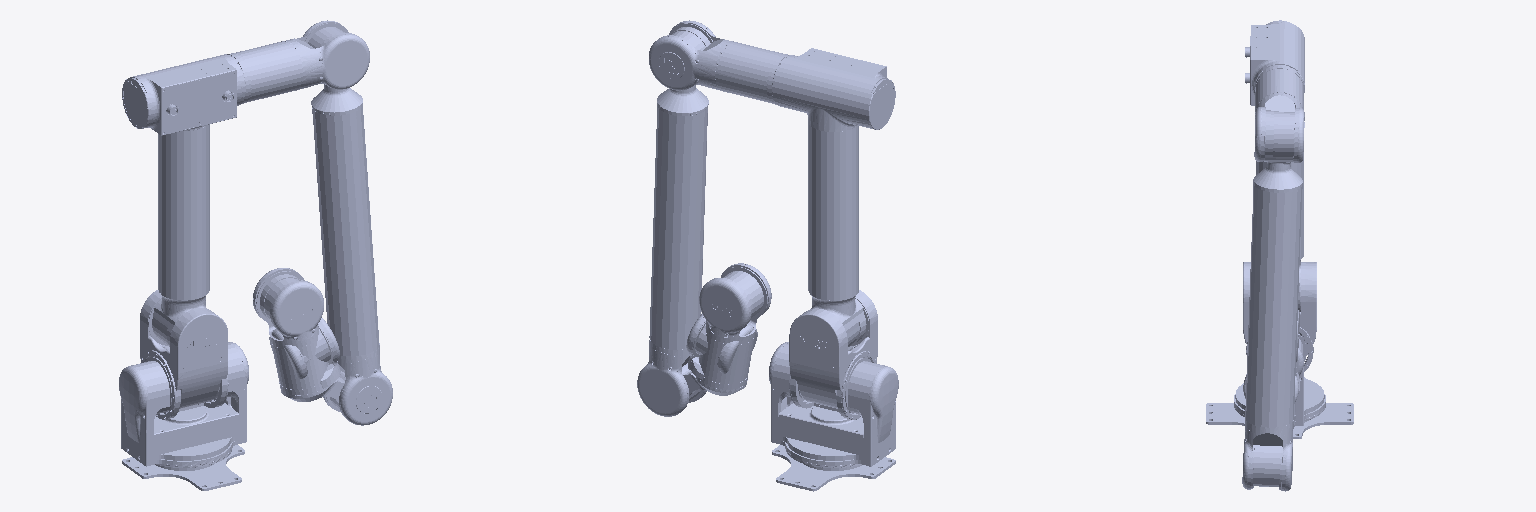
URDF robot description (gimbal_torso_with_arm_v2):
<robot
  name="gimbal_torso_with_arm_v2">
  <link
    name="gimbal_base_link">
    <inertial>
      <origin
        xyz="-0.000134617115499375 8.84443727108885E-05 0.00824468702760838"
        rpy="0 0 0" />
      <mass
        value="0.220004714037555" />
      <inertia
        ixx="0.000329104039004711"
        ixy="1.0791927549981E-06"
        ixz="1.84945148884471E-07"
        iyy="0.000212205129514198"
        iyz="-1.21510237523159E-07"
        izz="0.000523626224123319" />
    </inertial>
    <visual>
      <origin
        xyz="0 0 0"
        rpy="0 0 0" />
      <geometry>
        <mesh
          filename="package://gimbal_torso_with_arm_v2/meshes/gimbal_base_link.STL" />
      </geometry>
      <material
        name="">
        <color
          rgba="0.792156862745098 0.819607843137255 0.933333333333333 1" />
      </material>
    </visual>
    <collision>
      <origin
        xyz="0 0 0"
        rpy="0 0 0" />
      <geometry>
        <mesh
          filename="package://gimbal_torso_with_arm_v2/meshes/gimbal_base_link.STL" />
      </geometry>
    </collision>
  </link>
  <link
    name="gimbal_yaw_link">
    <inertial>
      <origin
        xyz="3.63692121861908E-09 0.0360027997375203 7.53548127025051E-09"
        rpy="0 0 0" />
      <mass
        value="0.660465266051098" />
      <inertia
        ixx="0.00110828576180168"
        ixy="5.24163679538012E-10"
        ixz="1.72177646519637E-08"
        iyy="0.00195590479811729"
        iyz="6.59482665939489E-10"
        izz="0.00216288436799051" />
    </inertial>
    <visual>
      <origin
        xyz="0 0 0"
        rpy="0 0 0" />
      <geometry>
        <mesh
          filename="package://gimbal_torso_with_arm_v2/meshes/gimbal_yaw_link.STL" />
      </geometry>
      <material
        name="">
        <color
          rgba="0.792156862745098 0.819607843137255 0.933333333333333 1" />
      </material>
    </visual>
    <collision>
      <origin
        xyz="0 0 0"
        rpy="0 0 0" />
      <geometry>
        <mesh
          filename="package://gimbal_torso_with_arm_v2/meshes/gimbal_yaw_link.STL" />
      </geometry>
    </collision>
  </link>
  <joint
    name="gimbal_yaw_joint"
    type="continuous">
    <origin
      xyz="0 0 0.016699"
      rpy="1.5708 -1.7477E-19 -0.0028543" />
    <parent
      link="gimbal_base_link" />
    <child
      link="gimbal_yaw_link" />
    <axis
      xyz="0 -1 0" />
  </joint>
  <link
    name="gimbal_pitch_link">
    <inertial>
      <origin
        xyz="-0.00188080077860001 -0.0394868539536669 2.30810626999092E-08"
        rpy="0 0 0" />
      <mass
        value="0.222734001689271" />
      <inertia
        ixx="0.000530048376111897"
        ixy="-1.87929491980254E-05"
        ixz="-1.02534625143116E-08"
        iyy="0.000487154238459728"
        iyz="-2.55469568334203E-09"
        izz="0.000673048826361283" />
    </inertial>
    <visual>
      <origin
        xyz="0 0 0"
        rpy="0 0 0" />
      <geometry>
        <mesh
          filename="package://gimbal_torso_with_arm_v2/meshes/gimbal_pitch_link.STL" />
      </geometry>
      <material
        name="">
        <color
          rgba="0.792156862745098 0.819607843137255 0.933333333333333 1" />
      </material>
    </visual>
    <collision>
      <origin
        xyz="0 0 0"
        rpy="0 0 0" />
      <geometry>
        <mesh
          filename="package://gimbal_torso_with_arm_v2/meshes/gimbal_pitch_link.STL" />
      </geometry>
    </collision>
  </link>
  <joint
    name="gimbal_pitch_joint"
    type="continuous">
    <origin
      xyz="0 0.1865 0"
      rpy="3.1416 1.5708 3.1416" />
    <parent
      link="gimbal_yaw_link" />
    <child
      link="gimbal_pitch_link" />
    <axis
      xyz="0 0 -1" />
  </joint>
  <link
    name="gimbal_roll_link">
    <inertial>
      <origin
        xyz="0.00106838223576286 0.258590113480123 -0.00794416862383205"
        rpy="0 0 0" />
      <mass
        value="1.13132140282419" />
      <inertia
        ixx="0.0302486709111049"
        ixy="0.000102874535803137"
        ixz="8.28461579030784E-06"
        iyy="0.00333181798814467"
        iyz="-0.000943641323880079"
        izz="0.0278575052741454" />
    </inertial>
    <visual>
      <origin
        xyz="0 0 0"
        rpy="0 0 0" />
      <geometry>
        <mesh
          filename="package://gimbal_torso_with_arm_v2/meshes/gimbal_roll_link.STL" />
      </geometry>
      <material
        name="">
        <color
          rgba="0.792156862745098 0.819607843137255 0.933333333333333 1" />
      </material>
    </visual>
    <collision>
      <origin
        xyz="0 0 0"
        rpy="0 0 0" />
      <geometry>
        <mesh
          filename="package://gimbal_torso_with_arm_v2/meshes/gimbal_roll_link.STL" />
      </geometry>
    </collision>
  </link>
  <joint
    name="gimbal_roll_joint"
    type="continuous">
    <origin
      xyz="0 0 0"
      rpy="-3.1413 7.7717E-14 -3.1416" />
    <parent
      link="gimbal_pitch_link" />
    <child
      link="gimbal_roll_link" />
    <axis
      xyz="-1 0 0" />
  </joint>
  <link
    name="right_shoulder_pitch_link">
    <inertial>
      <origin
        xyz="6.25478924209943E-09 -0.0318796832406486 0.00238461223068817"
        rpy="0 0 0" />
      <mass
        value="0.125376974978242" />
      <inertia
        ixx="0.000185882524560888"
        ixy="1.09036579863303E-11"
        ixz="-4.53795762592269E-10"
        iyy="0.000113208808305413"
        iyz="-1.08649943703842E-05"
        izz="0.000168032789336645" />
    </inertial>
    <visual>
      <origin
        xyz="0 0 0"
        rpy="0 0 0" />
      <geometry>
        <mesh
          filename="package://gimbal_torso_with_arm_v2/meshes/right_shoulder_pitch_link.STL" />
      </geometry>
      <material
        name="">
        <color
          rgba="0.792156862745098 0.819607843137255 0.933333333333333 1" />
      </material>
    </visual>
    <collision>
      <origin
        xyz="0 0 0"
        rpy="0 0 0" />
      <geometry>
        <mesh
          filename="package://gimbal_torso_with_arm_v2/meshes/right_shoulder_pitch_link.STL" />
      </geometry>
    </collision>
  </link>
  <joint
    name="right_shoulder_pitch_joint"
    type="continuous">
    <origin
      xyz="0 0.36378 -0.17192"
      rpy="1.5708 -5.5949E-15 -1.5375" />
    <parent
      link="gimbal_roll_link" />
    <child
      link="right_shoulder_pitch_link" />
    <axis
      xyz="0 1 0" />
  </joint>
  <link
    name="right_shoulder_roll_link">
    <inertial>
      <origin
        xyz="-9.94218518396428E-06 -0.230368486049706 -2.0744389619038E-05"
        rpy="0 0 0" />
      <mass
        value="1.73190304018425" />
      <inertia
        ixx="0.0303249895740869"
        ixy="-2.67921926701428E-06"
        ixz="-3.90904281925668E-10"
        iyy="0.00108480293835837"
        iyz="-8.33739702745909E-06"
        izz="0.0303485929216463" />
    </inertial>
    <visual>
      <origin
        xyz="0 0 0"
        rpy="0 0 0" />
      <geometry>
        <mesh
          filename="package://gimbal_torso_with_arm_v2/meshes/right_shoulder_roll_link.STL" />
      </geometry>
      <material
        name="">
        <color
          rgba="0.792156862745098 0.819607843137255 0.933333333333333 1" />
      </material>
    </visual>
    <collision>
      <origin
        xyz="0 0 0"
        rpy="0 0 0" />
      <geometry>
        <mesh
          filename="package://gimbal_torso_with_arm_v2/meshes/right_shoulder_roll_link.STL" />
      </geometry>
    </collision>
  </link>
  <joint
    name="right_shoulder_roll_joint"
    type="continuous">
    <origin
      xyz="0 -0.070228 0.00035"
      rpy="3.1919E-16 1.5027E-16 1.5174" />
    <parent
      link="right_shoulder_pitch_link" />
    <child
      link="right_shoulder_roll_link" />
    <axis
      xyz="0 0 0" />
  </joint>
  <link
    name="right_elbow_yaw_link">
    <inertial>
      <origin
        xyz="3.04560456299008E-08 0.0383487289241179 0.0026048194183257"
        rpy="0 0 0" />
      <mass
        value="0.125376473535097" />
      <inertia
        ixx="0.000185881976997219"
        ixy="1.48633051667768E-11"
        ixz="-5.86454335043705E-10"
        iyy="0.000113208103578472"
        iyz="-1.08648856516092E-05"
        izz="0.000168032795897041" />
    </inertial>
    <visual>
      <origin
        xyz="0 0 0"
        rpy="0 0 0" />
      <geometry>
        <mesh
          filename="package://gimbal_torso_with_arm_v2/meshes/right_elbow_yaw_link.STL" />
      </geometry>
      <material
        name="">
        <color
          rgba="0.792156862745098 0.819607843137255 0.933333333333333 1" />
      </material>
    </visual>
    <collision>
      <origin
        xyz="0 0 0"
        rpy="0 0 0" />
      <geometry>
        <mesh
          filename="package://gimbal_torso_with_arm_v2/meshes/right_elbow_yaw_link.STL" />
      </geometry>
    </collision>
  </link>
  <joint
    name="right_elbow_yaw_joint"
    type="continuous">
    <origin
      xyz="0 -0.51925 0.00021981"
      rpy="-3.1416 0.041777 3.1416" />
    <parent
      link="right_shoulder_roll_link" />
    <child
      link="right_elbow_yaw_link" />
    <axis
      xyz="0 0 0" />
  </joint>
  <link
    name="right_elbow_roll_link">
    <inertial>
      <origin
        xyz="0.00901649665112278 -0.035256471374657 -0.00063307567322062"
        rpy="0 0 0" />
      <mass
        value="0.296960652400396" />
      <inertia
        ixx="0.000843771360214524"
        ixy="-0.000201223900946504"
        ixz="-2.52668106930358E-07"
        iyy="0.0002777920931224"
        iyz="2.5283258730614E-07"
        izz="0.000969676216324251" />
    </inertial>
    <visual>
      <origin
        xyz="0 0 0"
        rpy="0 0 0" />
      <geometry>
        <mesh
          filename="package://gimbal_torso_with_arm_v2/meshes/right_elbow_roll_link.STL" />
      </geometry>
      <material
        name="">
        <color
          rgba="0.792156862745098 0.819607843137255 0.933333333333333 1" />
      </material>
    </visual>
    <collision>
      <origin
        xyz="0 0 0"
        rpy="0 0 0" />
      <geometry>
        <mesh
          filename="package://gimbal_torso_with_arm_v2/meshes/right_elbow_roll_link.STL" />
      </geometry>
    </collision>
  </link>
  <joint
    name="right_elbow_roll_joint"
    type="continuous">
    <origin
      xyz="0 0 0"
      rpy="3.1416 3.1225E-16 1.1843" />
    <parent
      link="right_elbow_yaw_link" />
    <child
      link="right_elbow_roll_link" />
    <axis
      xyz="0 0 1" />
  </joint>
  <link
    name="right_forearm_yaw_link">
    <inertial>
      <origin
        xyz="1.30422309840839E-07 -0.025580028590634 0.00212591151109225"
        rpy="0 0 0" />
      <mass
        value="0.0884408885643763" />
      <inertia
        ixx="0.000128898202356925"
        ixy="-1.28469512290708E-10"
        ixz="6.8362957954005E-09"
        iyy="9.15657013846502E-05"
        iyz="-3.91459066372815E-06"
        izz="0.000110367427618238" />
    </inertial>
    <visual>
      <origin
        xyz="0 0 0"
        rpy="0 0 0" />
      <geometry>
        <mesh
          filename="package://gimbal_torso_with_arm_v2/meshes/right_forearm_yaw_link.STL" />
      </geometry>
      <material
        name="">
        <color
          rgba="0.792156862745098 0.819607843137255 0.933333333333333 1" />
      </material>
    </visual>
    <collision>
      <origin
        xyz="0 0 0"
        rpy="0 0 0" />
      <geometry>
        <mesh
          filename="package://gimbal_torso_with_arm_v2/meshes/right_forearm_yaw_link.STL" />
      </geometry>
    </collision>
  </link>
  <joint
    name="right_forearm_yaw_joint"
    type="continuous">
    <origin
      xyz="0.070682 -0.12626 -0.00062"
      rpy="3.1416 3.8511E-05 -2.0944" />
    <parent
      link="right_elbow_roll_link" />
    <child
      link="right_forearm_yaw_link" />
    <axis
      xyz="0 1 0" />
  </joint>
  <link
    name="right_wrist_roll_link">
    <inertial>
      <origin
        xyz="0.000287843428113986 0.0378519085963548 4.73473327792795E-05"
        rpy="0 0 0" />
      <mass
        value="0.363024664225341" />
      <inertia
        ixx="0.000675284852994684"
        ixy="1.38669420739067E-06"
        ixz="1.09697489221245E-08"
        iyy="0.000175970017924314"
        iyz="-1.39849685260843E-06"
        izz="0.000675279879582797" />
    </inertial>
    <visual>
      <origin
        xyz="0 0 0"
        rpy="0 0 0" />
      <geometry>
        <mesh
          filename="package://gimbal_torso_with_arm_v2/meshes/right_wrist_roll_link.STL" />
      </geometry>
      <material
        name="">
        <color
          rgba="0.792156862745098 0.819607843137255 0.933333333333333 1" />
      </material>
    </visual>
    <collision>
      <origin
        xyz="0 0 0"
        rpy="0 0 0" />
      <geometry>
        <mesh
          filename="package://gimbal_torso_with_arm_v2/meshes/right_wrist_roll_link.STL" />
      </geometry>
    </collision>
  </link>
  <joint
    name="right_wrist_roll_joint"
    type="continuous">
    <origin
      xyz="0 -0.05 0"
      rpy="0.13393 -1.5708 0" />
    <parent
      link="right_forearm_yaw_link" />
    <child
      link="right_wrist_roll_link" />
    <axis
      xyz="-1 0 0" />
  </joint>
  <link
    name="right_wrist_pitch_link">
    <inertial>
      <origin
        xyz="0.00039939203048864 0.0242689551696685 0.00186785180182097"
        rpy="0 0 0" />
      <mass
        value="0.0891089340502437" />
      <inertia
        ixx="0.000125406322184083"
        ixy="1.02044322779947E-06"
        ixz="-6.750267383796E-08"
        iyy="9.26888664975339E-05"
        iyz="-3.74051620191346E-06"
        izz="0.00010777646831052" />
    </inertial>
    <visual>
      <origin
        xyz="0 0 0"
        rpy="0 0 0" />
      <geometry>
        <mesh
          filename="package://gimbal_torso_with_arm_v2/meshes/right_wrist_pitch_link.STL" />
      </geometry>
      <material
        name="">
        <color
          rgba="0.792156862745098 0.819607843137255 0.933333333333333 1" />
      </material>
    </visual>
    <collision>
      <origin
        xyz="0 0 0"
        rpy="0 0 0" />
      <geometry>
        <mesh
          filename="package://gimbal_torso_with_arm_v2/meshes/right_wrist_pitch_link.STL" />
      </geometry>
    </collision>
  </link>
  <joint
    name="right_wrist_pitch_joint"
    type="continuous">
    <origin
      xyz="0.00035 0.074902 0"
      rpy="-1.4507E-16 4.6491E-15 -0.0017961" />
    <parent
      link="right_wrist_roll_link" />
    <child
      link="right_wrist_pitch_link" />
    <axis
      xyz="0 0 1" />
  </joint>
</robot>

--- Facts derived from the render (not from the file) ---
The picture shows the robot from 3 angles, left to right: view 1: azimuth 30°, elevation 25°; view 2: azimuth 150°, elevation 25°; view 3: azimuth 270°, elevation 25°; orthographic projection.
Robot: gimbal_torso_with_arm_v2 — 11 links, 10 joints (10 continuous); root link gimbal_base_link; default pose: every joint at zero.
Links seen in each view (by area): view 1: gimbal_roll_link, right_shoulder_roll_link, gimbal_yaw_link, gimbal_pitch_link, right_shoulder_pitch_link, right_forearm_yaw_link, right_elbow_yaw_link, right_elbow_roll_link, gimbal_base_link, right_wrist_roll_link, right_wrist_pitch_link; view 2: gimbal_roll_link, right_shoulder_roll_link, gimbal_yaw_link, gimbal_pitch_link, right_shoulder_pitch_link, right_forearm_yaw_link, right_elbow_yaw_link, right_elbow_roll_link, gimbal_base_link, right_wrist_roll_link, right_wrist_pitch_link; view 3: right_shoulder_roll_link, gimbal_roll_link, gimbal_pitch_link, right_elbow_yaw_link, gimbal_base_link, gimbal_yaw_link, right_shoulder_pitch_link, right_elbow_roll_link.
Link boxes in pixels (box(x1,y1,x2,y2)): gimbal_roll_link: box(122, 41, 302, 346); right_shoulder_roll_link: box(305, 23, 379, 355); gimbal_yaw_link: box(119, 342, 248, 467); gimbal_pitch_link: box(140, 290, 228, 419); right_shoulder_pitch_link: box(286, 20, 369, 89); right_forearm_yaw_link: box(253, 268, 323, 348); right_elbow_yaw_link: box(323, 343, 392, 425); right_elbow_roll_link: box(271, 339, 345, 411); gimbal_base_link: box(122, 445, 244, 490); right_wrist_roll_link: box(256, 271, 333, 373); right_wrist_pitch_link: box(269, 318, 340, 388); gimbal_roll_link: box(715, 41, 895, 346); right_shoulder_roll_link: box(649, 23, 712, 349); gimbal_yaw_link: box(769, 342, 898, 467); gimbal_pitch_link: box(789, 290, 877, 419); right_shoulder_pitch_link: box(649, 20, 730, 90); right_forearm_yaw_link: box(699, 263, 771, 344); right_elbow_yaw_link: box(637, 340, 706, 416); right_elbow_roll_link: box(682, 333, 754, 402); gimbal_base_link: box(772, 445, 895, 491); right_wrist_roll_link: box(692, 267, 767, 367); right_wrist_pitch_link: box(686, 314, 757, 379); right_shoulder_roll_link: box(1245, 107, 1302, 427); gimbal_roll_link: box(1245, 20, 1304, 311); gimbal_pitch_link: box(1243, 262, 1316, 371); right_elbow_yaw_link: box(1242, 419, 1293, 491); gimbal_base_link: box(1206, 403, 1353, 438); gimbal_yaw_link: box(1234, 332, 1325, 425); right_shoulder_pitch_link: box(1254, 93, 1304, 162); right_elbow_roll_link: box(1251, 373, 1296, 490).
Bounding box of the posed robot: 0.4018 × 0.2182 × 0.609 m (x, y, z).
11 mesh visuals loaded from 11 distinct referenced files (11 binary STL).